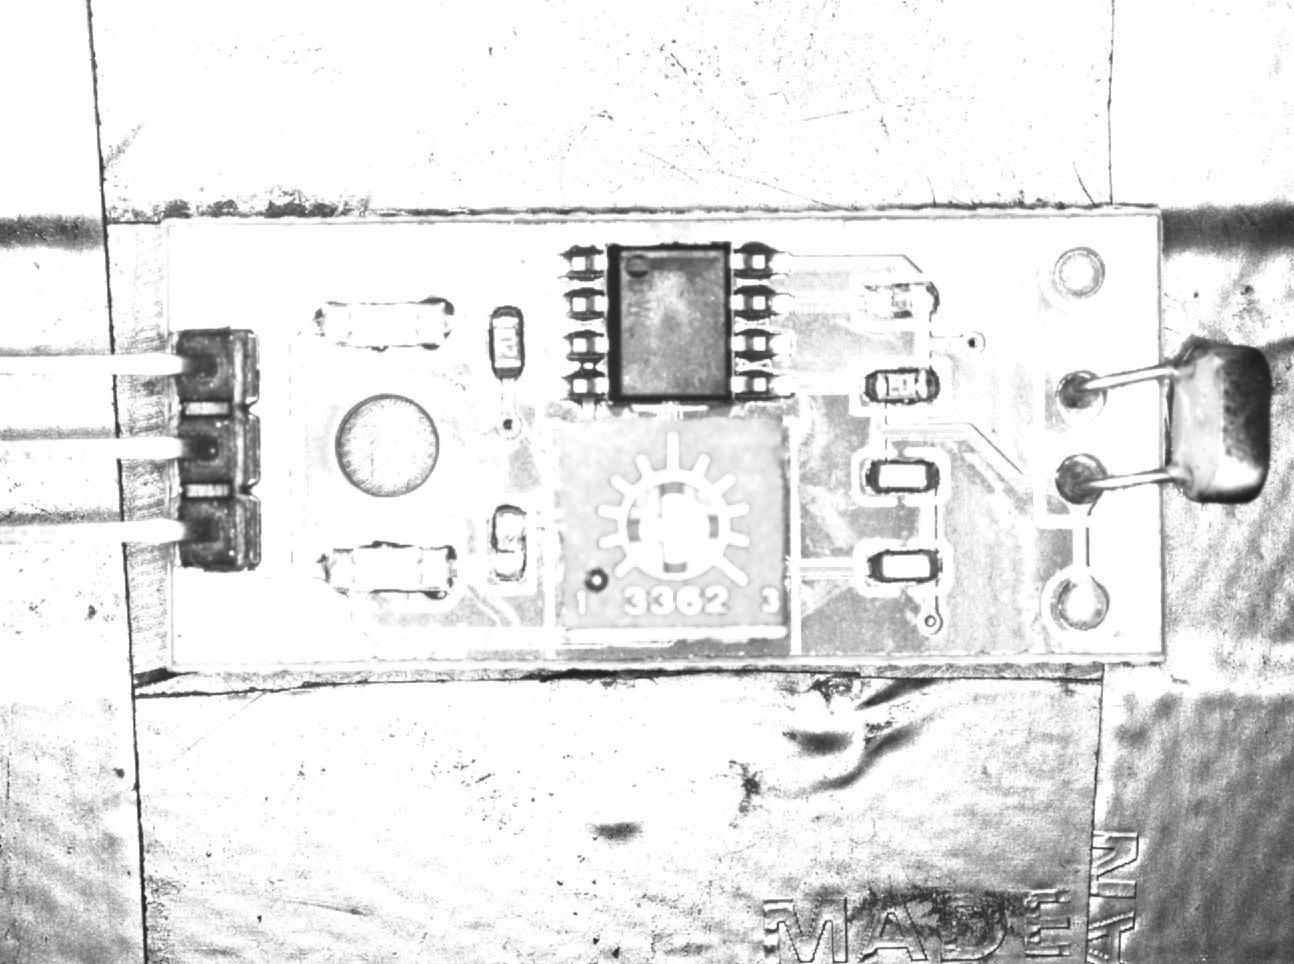miss: (851, 273, 948, 331), (480, 493, 534, 591)
ok: (855, 356, 955, 411), (853, 539, 949, 595), (856, 449, 946, 503), (480, 299, 534, 386)
